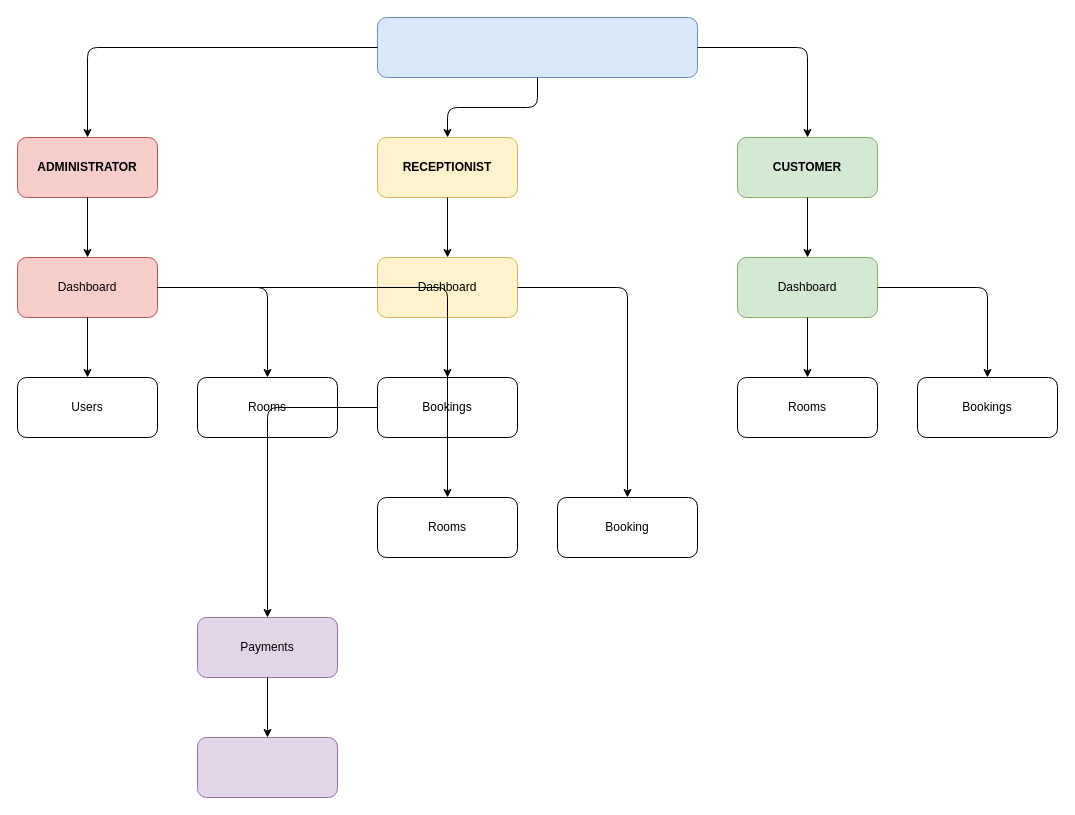
Some shapes in this 1075 by 815 pixel diagram are drawn without their labels. The box of each missing label's shape, as (x1, y1, x2, y2) in pixels:
HOTEL BOOKING SYSTEM: (376, 16, 698, 78)
Reports: (196, 736, 338, 798)
